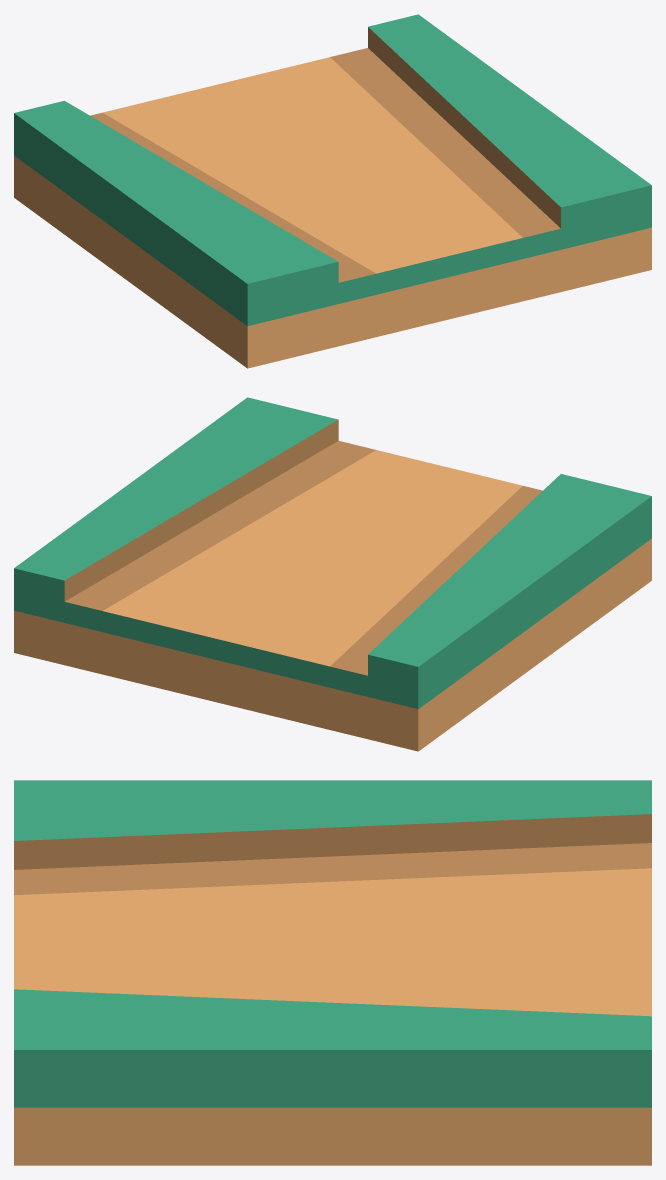
Rendered from tile_transition.dae.
The picture shows the model from 3 angles, top to bottom: view 1: azimuth 30°, elevation 25°; view 2: azimuth 150°, elevation 25°; view 3: azimuth 270°, elevation 25°; orthographic projection. The views are drawn at different scales.
Parts seen in each view (by area): view 1: tile_transition; view 2: tile_transition; view 3: tile_transition.
Boxes of the visible parts, left/top/right/bottom form: tile_transition: left=14, top=14, right=651, bottom=368; tile_transition: left=14, top=397, right=651, bottom=751; tile_transition: left=14, top=780, right=651, bottom=1165.
Size of the model in its own units: 1 by 0.2 by 1.
